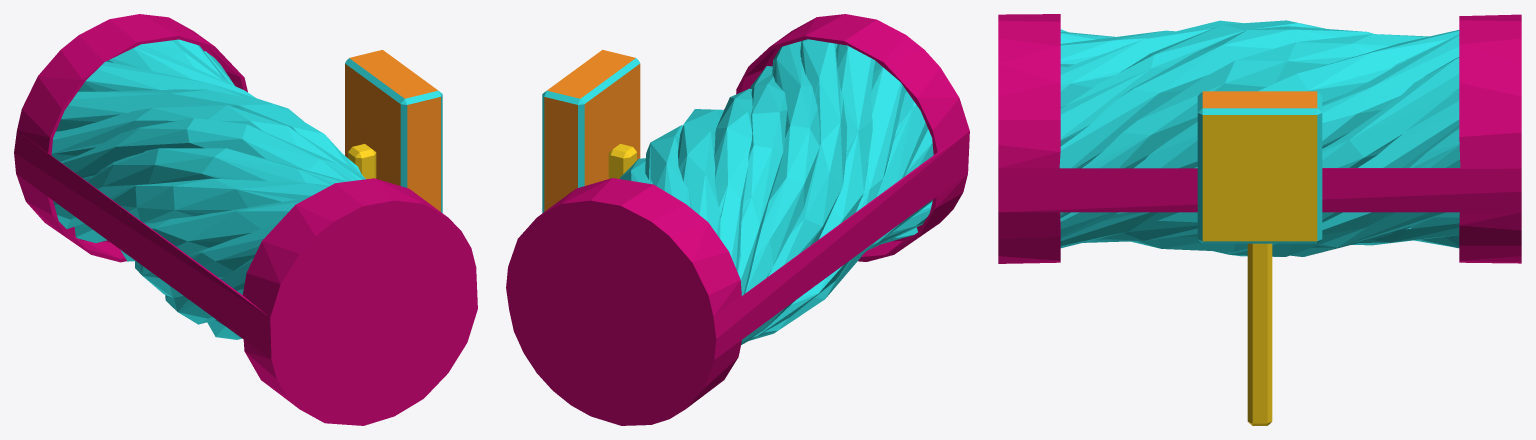
Rendered from Breaker_Box.fbx.
The picture shows the model from 3 angles, left to right: view 1: azimuth 30°, elevation 25°; view 2: azimuth 150°, elevation 25°; view 3: azimuth 270°, elevation 25°; orthographic projection. The views are drawn at different scales.
Visible parts, largest first — view 1: Power_Cable_LOD0, Breaker_Box, Breaker_Pole; view 2: Power_Cable_LOD0, Breaker_Box, Breaker_Pole; view 3: Power_Cable_LOD0, Breaker_Door, Breaker_Pole, Breaker_Box.
Boxes of the visible parts, bbox=[...] form: Power_Cable_LOD0: bbox=[14, 14, 477, 425]; Breaker_Box: bbox=[345, 50, 440, 211]; Breaker_Pole: bbox=[348, 144, 376, 179]; Power_Cable_LOD0: bbox=[506, 14, 969, 425]; Breaker_Box: bbox=[544, 49, 640, 211]; Breaker_Pole: bbox=[608, 144, 636, 178]; Power_Cable_LOD0: bbox=[998, 14, 1521, 263]; Breaker_Door: bbox=[1197, 108, 1322, 243]; Breaker_Pole: bbox=[1247, 243, 1272, 425]; Breaker_Box: bbox=[1197, 91, 1322, 112].
Size of the model in its own units: 260 by 300 by 420.
